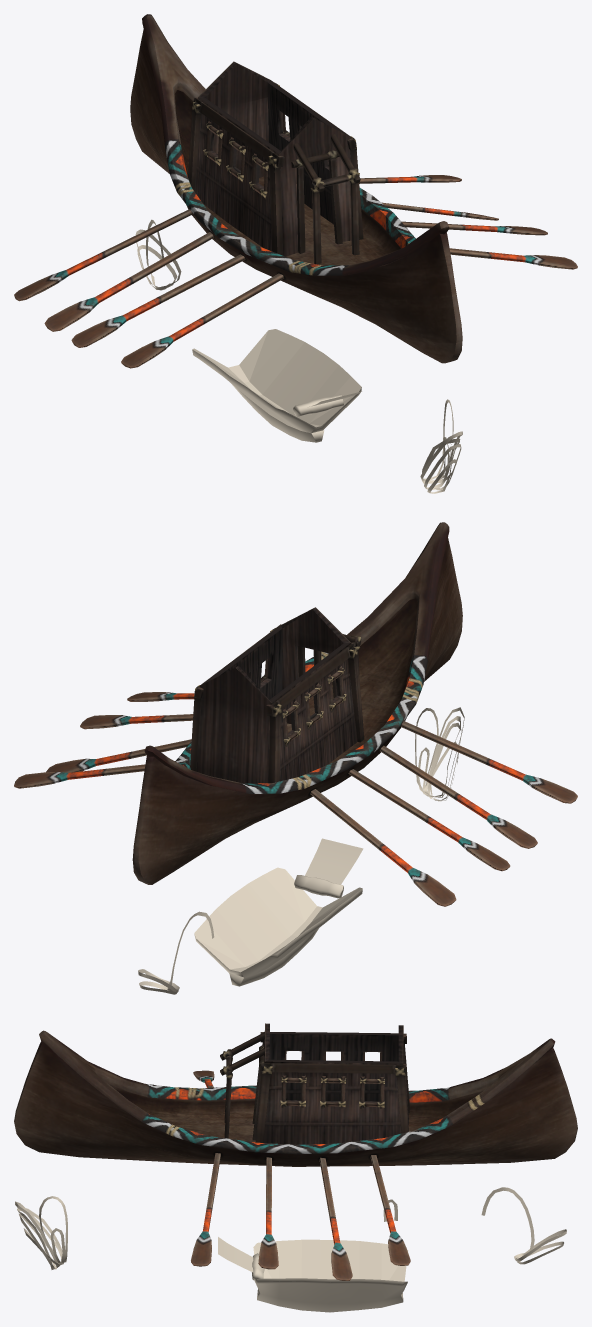
File: 188-transportshipaztec.glb
3 views of the same model, one above another, from view 1: azimuth 30°, elevation 25°; view 2: azimuth 150°, elevation 25°; view 3: azimuth 270°, elevation 25° (orthographic). The views are drawn at different scales.
Bounding box in the file's own units: 5.26 × 3.62 × 6.45.
Materials: 2 (1 with a texture image).
